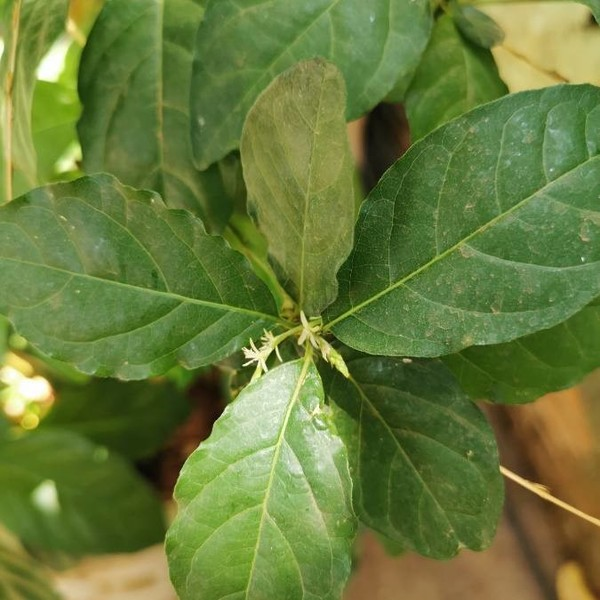obstacle: (54, 100, 554, 551)
